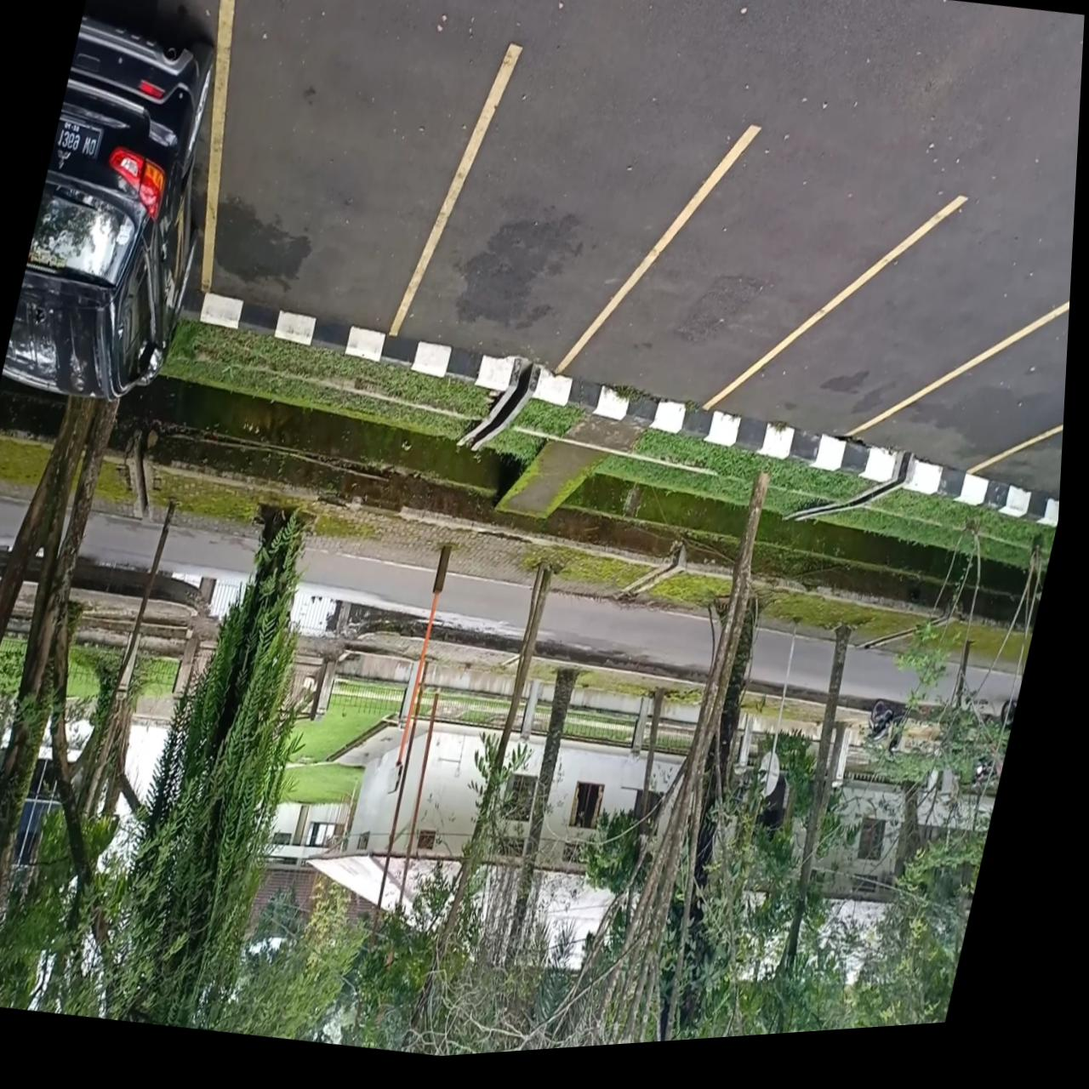empty: (380, 42, 759, 384), (548, 125, 967, 416), (199, 0, 522, 344), (695, 191, 1072, 446), (833, 302, 1070, 483)
